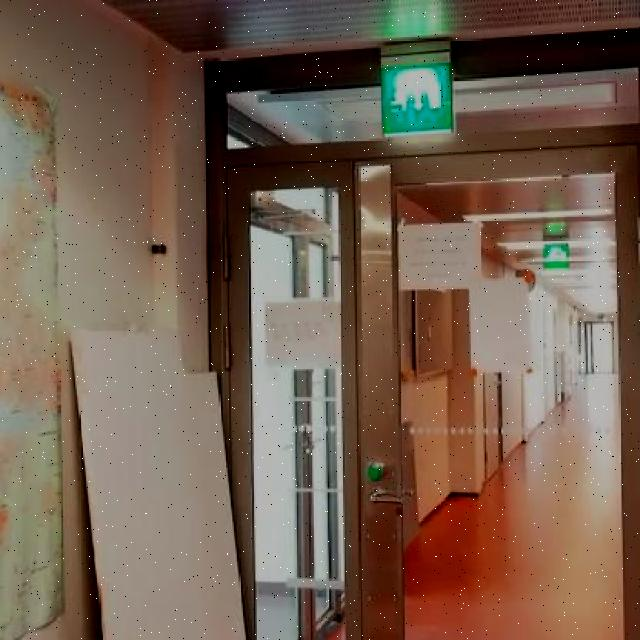emergency_exit: (379, 48, 455, 138), (542, 242, 570, 270)
